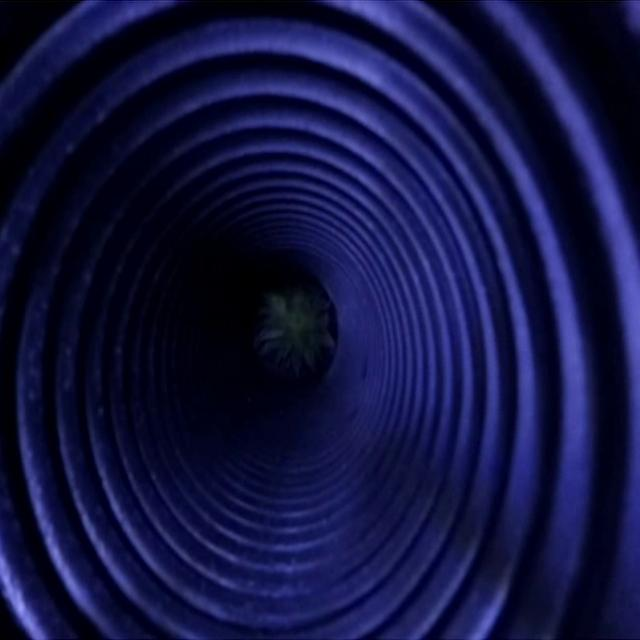leaf: (269, 293, 332, 367)
